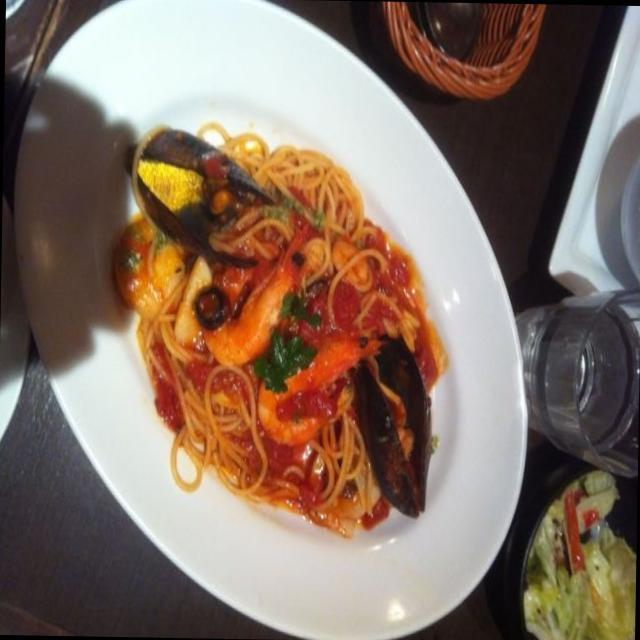Pasta: (132, 119, 432, 520)
